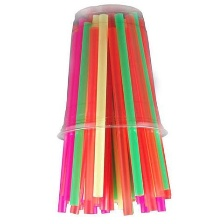drinking_straw: (90, 9, 113, 199)
glass: (51, 1, 174, 143)
